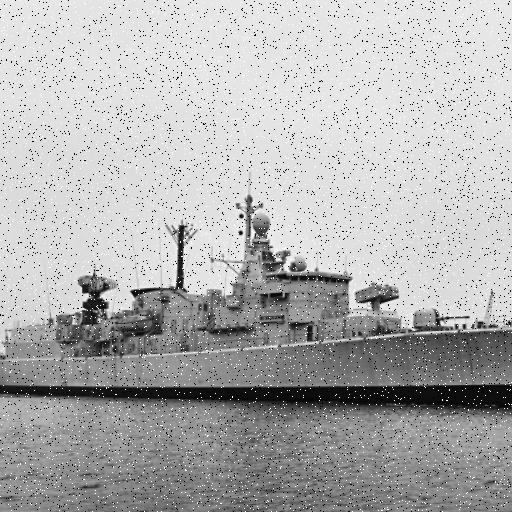Fragata: (1, 169, 512, 414)
